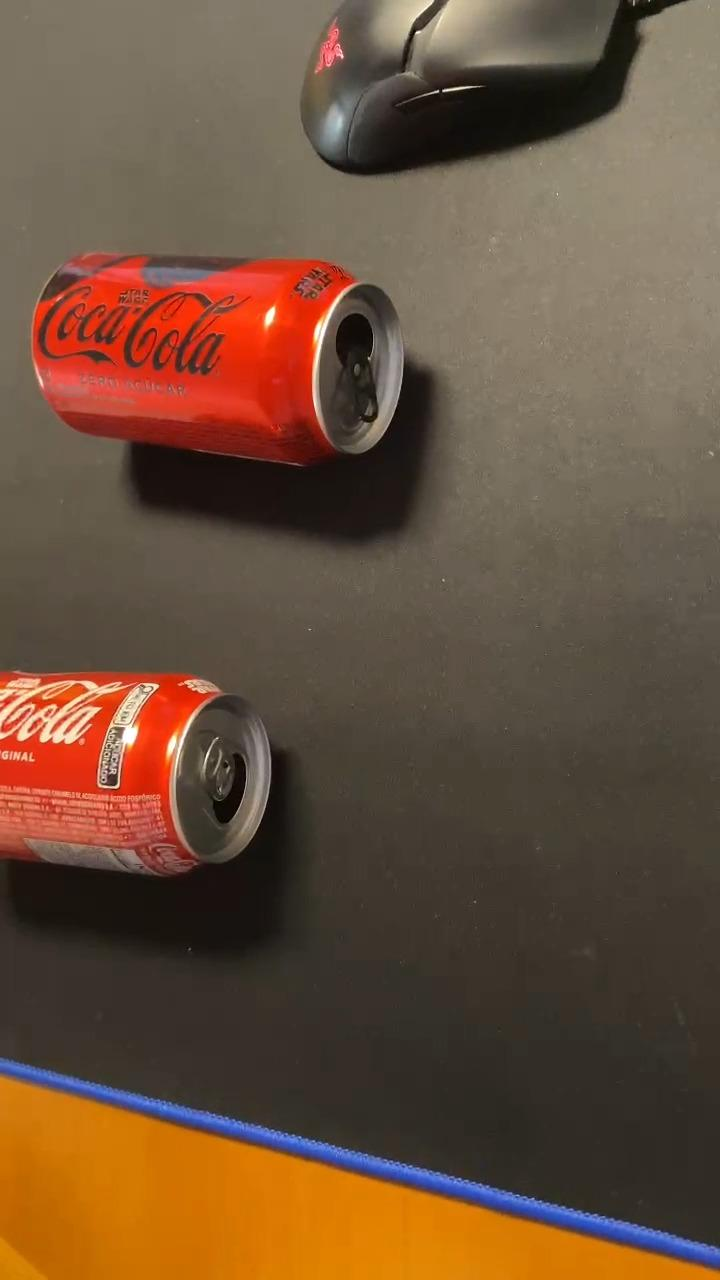coke: (25, 250, 407, 470), (0, 670, 274, 879)
